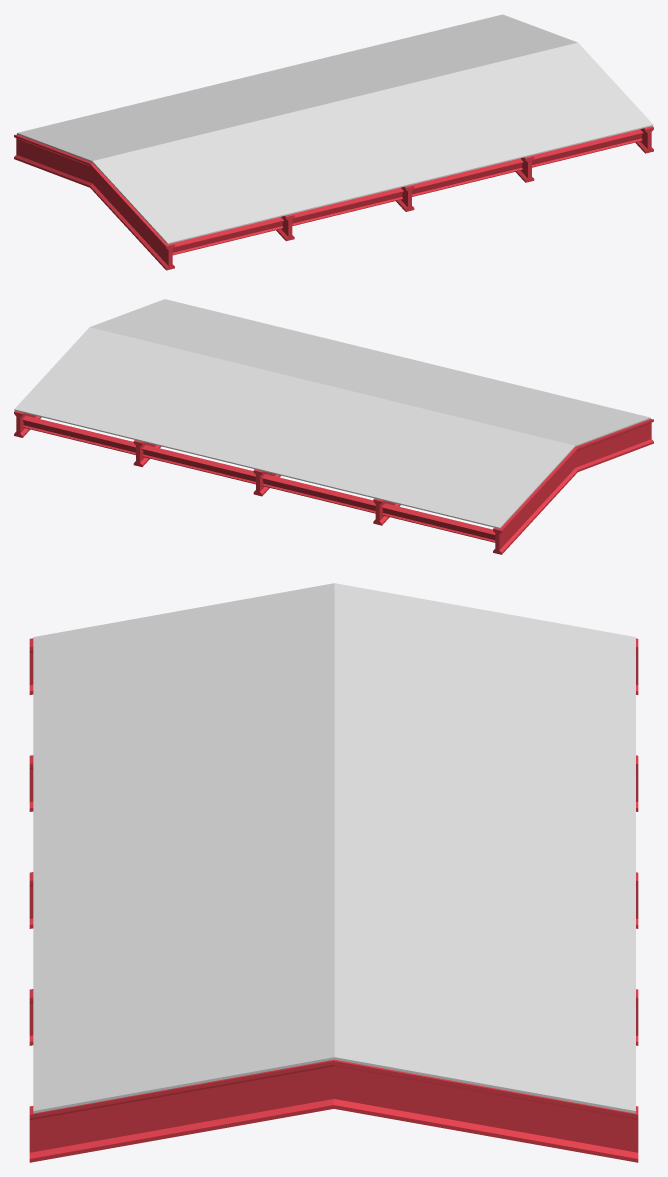
The model's file is ceiling.fbx.
3 views of the same model, one above another, from view 1: azimuth 30°, elevation 25°; view 2: azimuth 150°, elevation 25°; view 3: azimuth 270°, elevation 25° (orthographic). The views are drawn at different scales.
Visible parts, largest first — view 1: Plane; view 2: Plane; view 3: Plane.
Boxes of the visible parts, x1=… form: Plane: x1=14, y1=14, x2=653, y2=270; Plane: x1=14, y1=299, x2=653, y2=554; Plane: x1=29, y1=583, x2=638, y2=1162.
Size of the model in its own units: 34.29 by 3.56 by 18.52.
